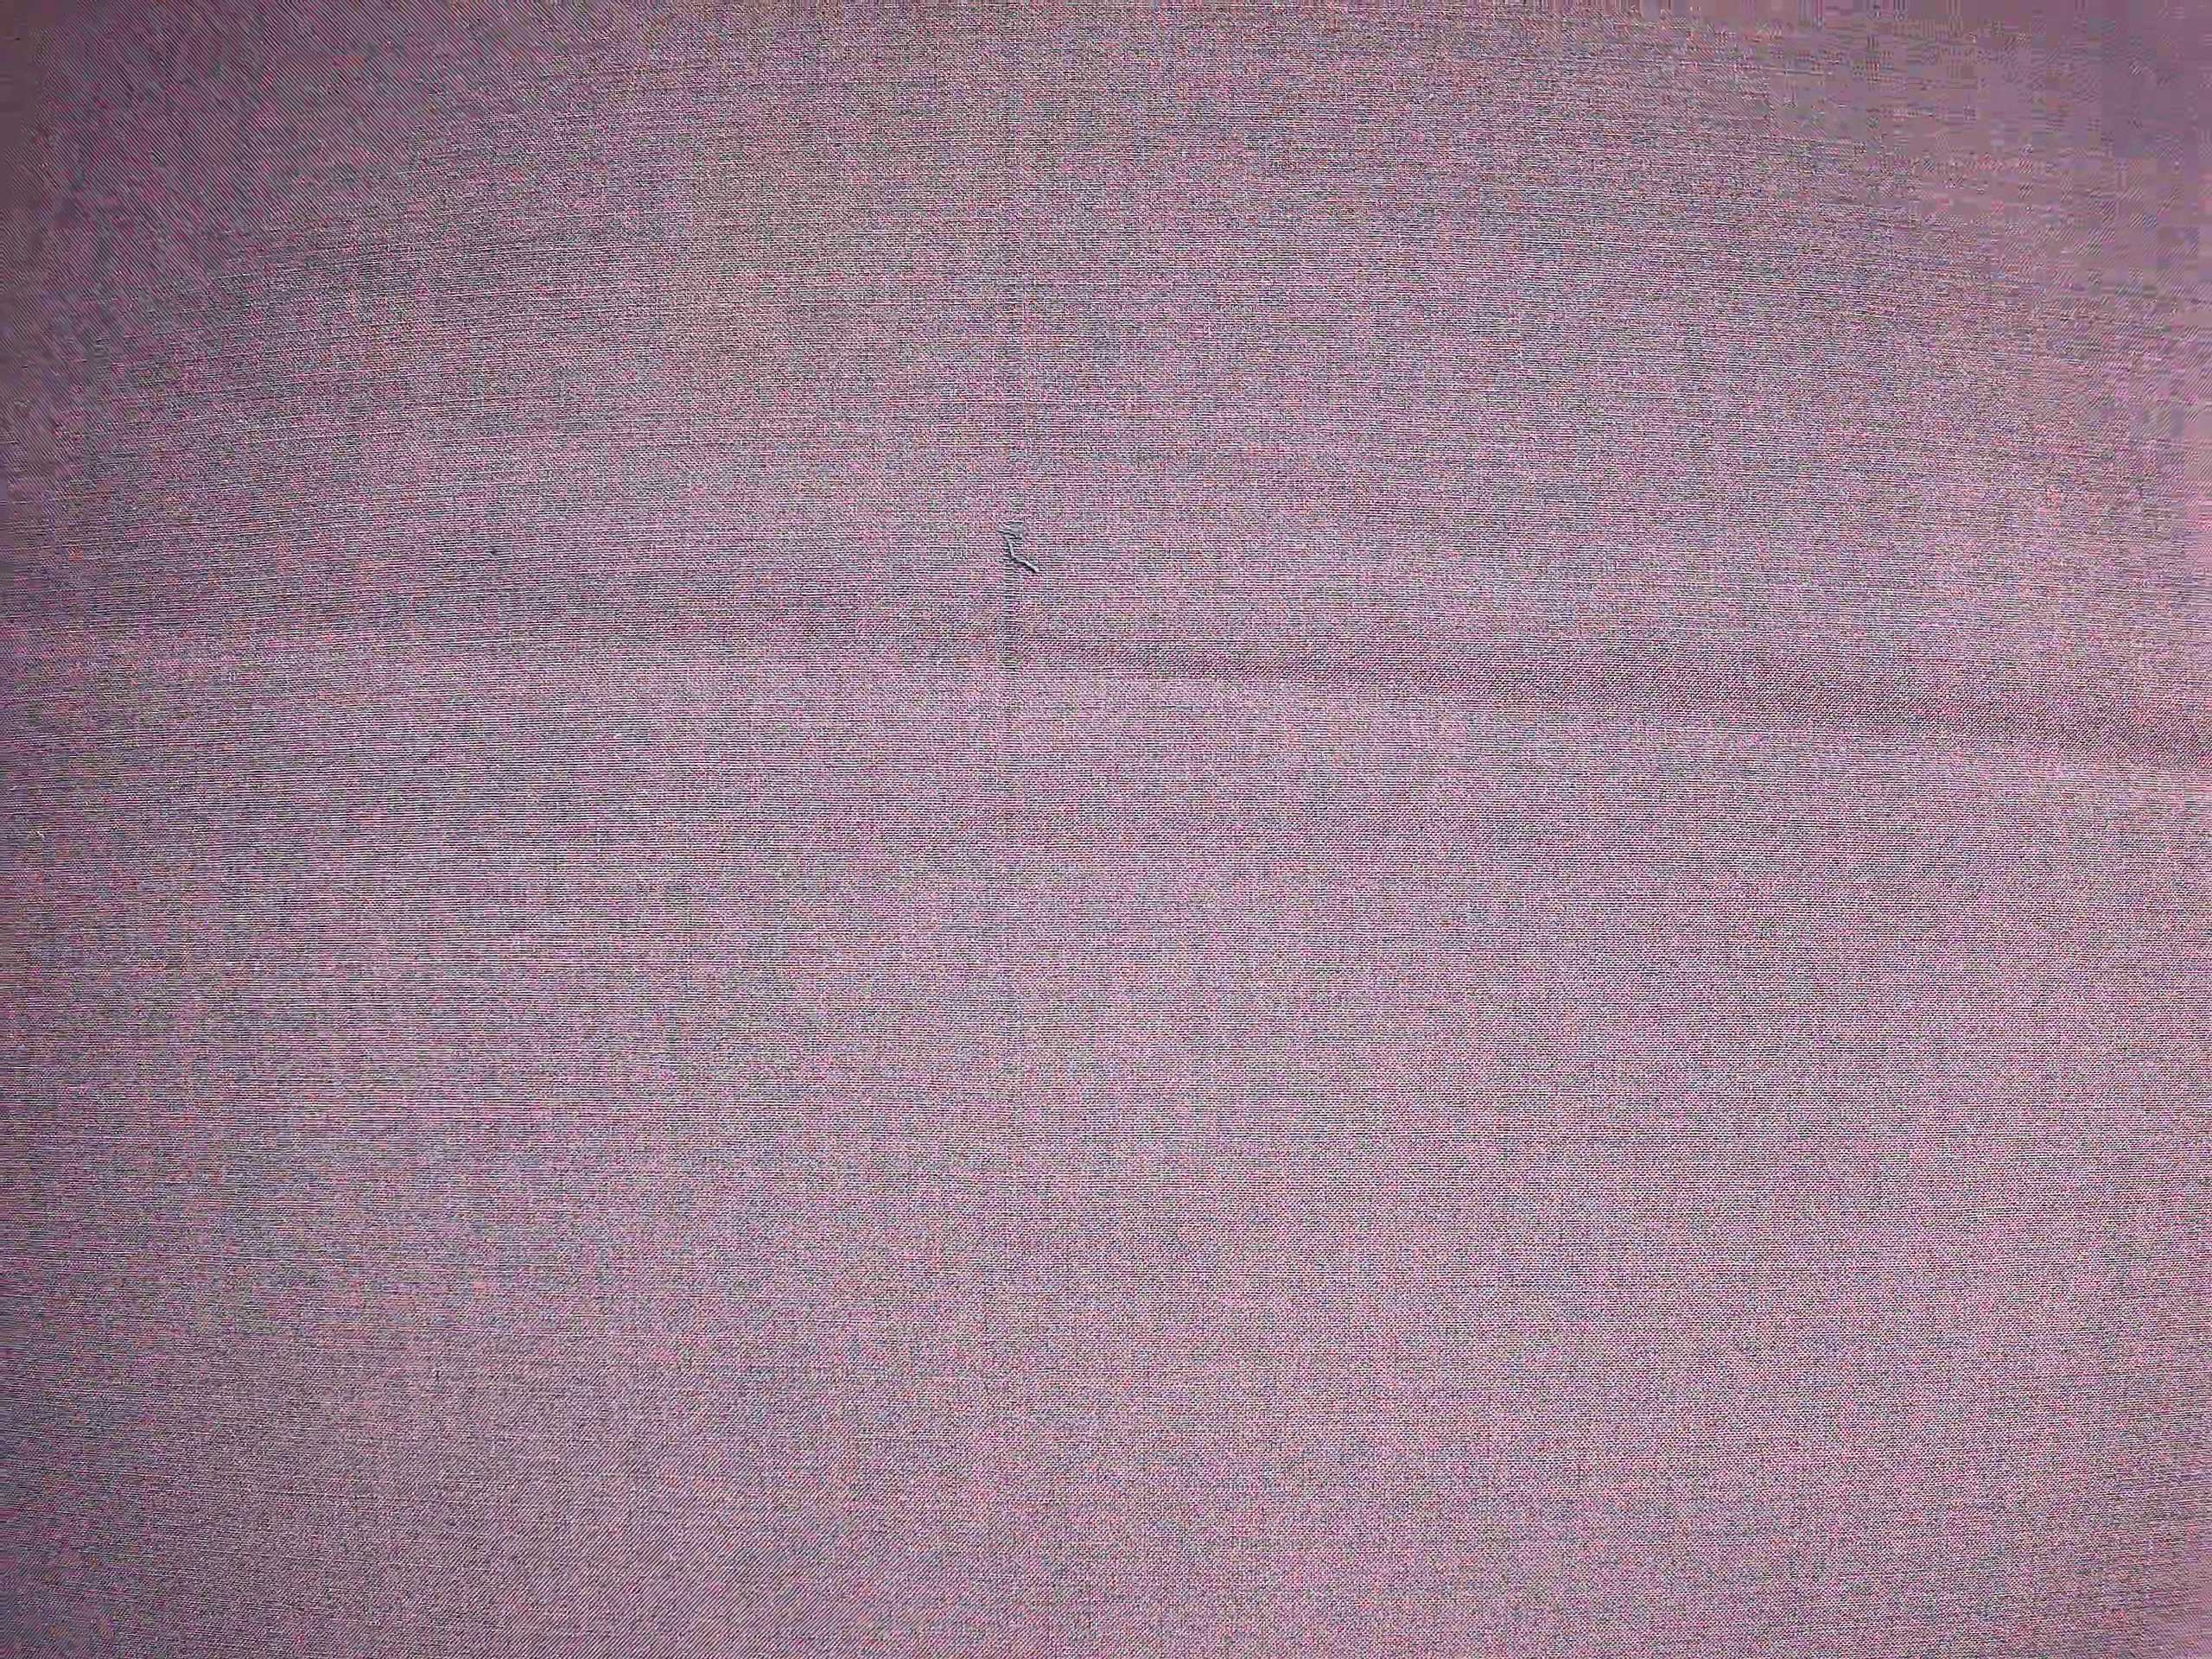jumps: (979, 497, 1064, 631)
